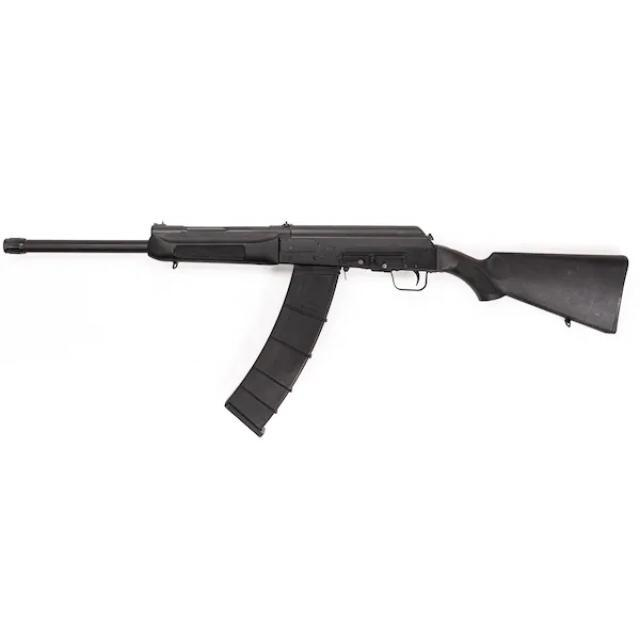weapon: (2, 220, 630, 440)
